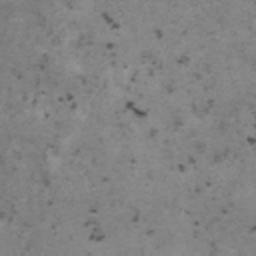Oxide scale of temperature system: (100, 10, 256, 227), (17, 61, 79, 111), (82, 207, 156, 242), (0, 202, 17, 224), (40, 172, 52, 186), (247, 224, 256, 233)
